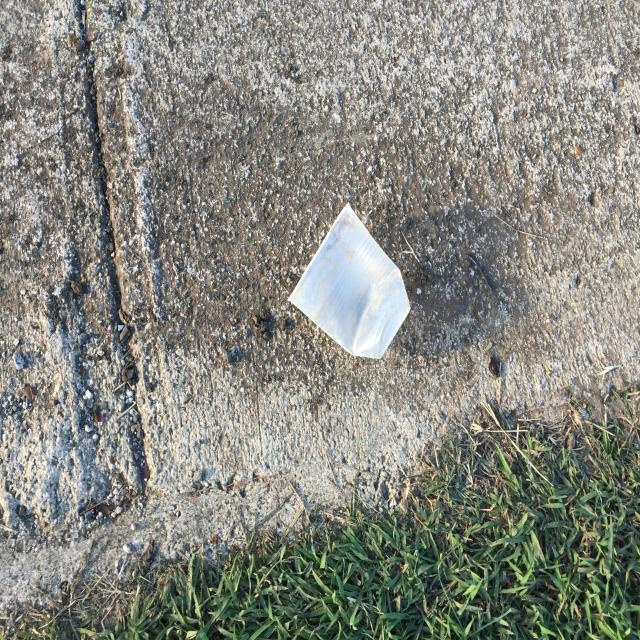litter: (286, 201, 410, 360)
